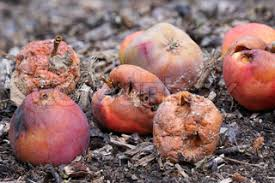damaged_apple: (9, 94, 88, 166), (119, 27, 202, 90), (94, 69, 169, 135), (155, 95, 224, 159), (12, 41, 84, 95), (222, 26, 273, 96)
